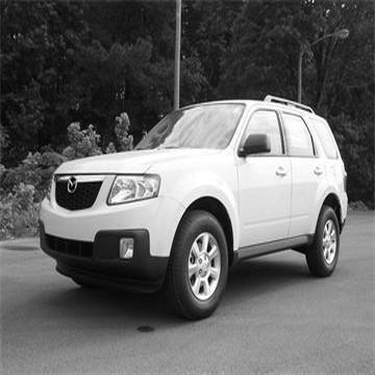car: (28, 88, 358, 308)
